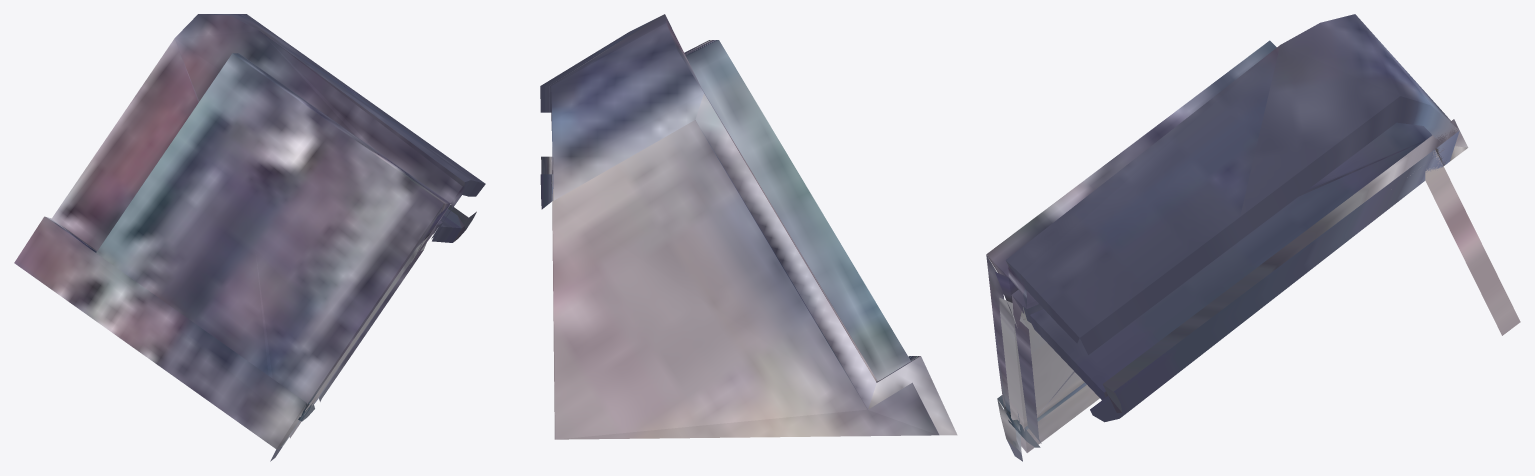
3 views of the same model, side by side, from view 1: azimuth 30°, elevation 25°; view 2: azimuth 150°, elevation 25°; view 3: azimuth 270°, elevation 25° (orthographic). The views are drawn at different scales.
Bounding box in the file's own units: 11.59 × 10.28 × 10.35.
Materials: 1 (1 with a texture image).
